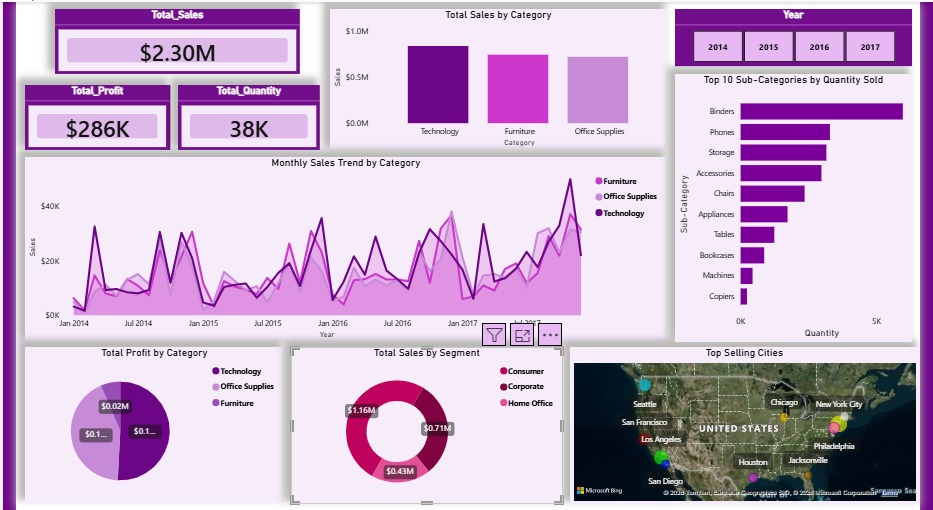

Layout of this report page (visuals, bound fields, positions):
{"tool":"powerbi","page":{"name":"Superstore- Salesanalysis","canvas":[1280,720],"ordinal":0},"visuals":[{"type":"columnChart","title":"Total Sales by Category","fields":{"Category":["Sample - Superstore.Category"],"Y":["Sum(Sample - Superstore.Sales)"]},"box":[445,9.9,477.6,199.8],"z":0},{"type":"lineChart","title":"Monthly Sales Trend by Category","fields":{"Series":["Sample - Superstore.Category"],"Category":["Sample - Superstore.Order Date.Variation.Date Hierarchy.Year","Sample - Superstore.Order Date.Variation.Date Hierarchy.Month"],"Y":["Sum(Sample - Superstore.Sales)"]},"box":[12.8,219.7,909.9,262.2],"z":1000},{"type":"pieChart","title":"Total Profit by Category","fields":{"Y":["Sum(Sample - Superstore.Profit)"],"Category":["Sample - Superstore.Category"]},"box":[12.8,489,367.1,221.1],"z":2000},{"type":"map","title":"Top Selling Cities","fields":{"Category":["Sample - Superstore.City"],"Size":["Sum(Sample - Superstore.Sales)"]},"box":[785.2,489,494.6,222.5],"z":3000},{"type":"barChart","title":"Top 10 Sub-Categories by Quantity Sold","fields":{"Y":["Sum(Sample - Superstore.Quantity)"],"Category":["Sample - Superstore.Sub-Category"]},"box":[934,102,335.9,379.8],"z":4000},{"type":"donutChart","title":"Total Sales by Segment","fields":{"Category":["Sample - Superstore.Segment"],"Y":["Sum(Sample - Superstore.Sales)"]},"box":[389.8,489,385.5,222.5],"z":5000},{"type":"cardVisual","title":"Total_Sales","fields":{"Data":["Sum(Sample - Superstore.Sales)"]},"box":[55.3,9.9,347.2,92.1],"z":6000},{"type":"cardVisual","title":"Total_Profit","fields":{"Data":["Sum(Sample - Superstore.Profit)"]},"box":[12.8,117.6,205.5,92.1],"z":7000},{"type":"cardVisual","title":"Total_Quantity","fields":{"Data":["Sum(Sample - Superstore.Quantity)"]},"box":[229.6,117.6,201.3,92.1],"z":8000},{"type":"slicer","title":"Year","fields":{"Values":["Sample - Superstore.Order Date.Variation.Date Hierarchy.Year"]},"box":[934,9.9,335.9,80.8],"z":9000}]}

Visuals, with their boxes in screenshot pixels (x1, y1, x2, y2), scaled from the page's 1280x720 canvas onto the 933x510 screenshot:
"Total Sales by Category" columnChart: box(324, 7, 672, 149)
"Monthly Sales Trend by Category" lineChart: box(9, 156, 673, 341)
"Total Profit by Category" pieChart: box(9, 346, 277, 503)
"Top Selling Cities" map: box(572, 346, 932, 504)
"Top 10 Sub-Categories by Quantity Sold" barChart: box(681, 72, 926, 341)
"Total Sales by Segment" donutChart: box(284, 346, 565, 504)
"Total_Sales" cardVisual: box(40, 7, 293, 72)
"Total_Profit" cardVisual: box(9, 83, 159, 149)
"Total_Quantity" cardVisual: box(167, 83, 314, 149)
"Year" slicer: box(681, 7, 926, 64)
